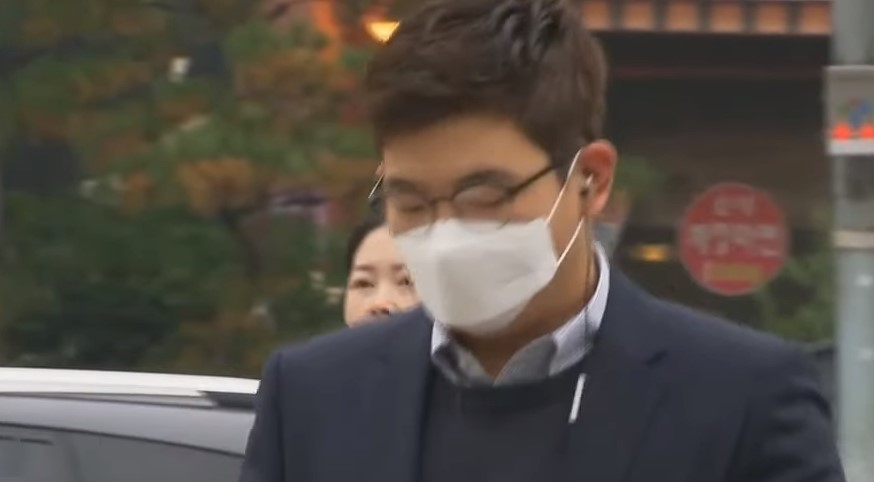face_no_mask: (347, 221, 418, 330)
face_with_mask: (373, 3, 617, 339)
